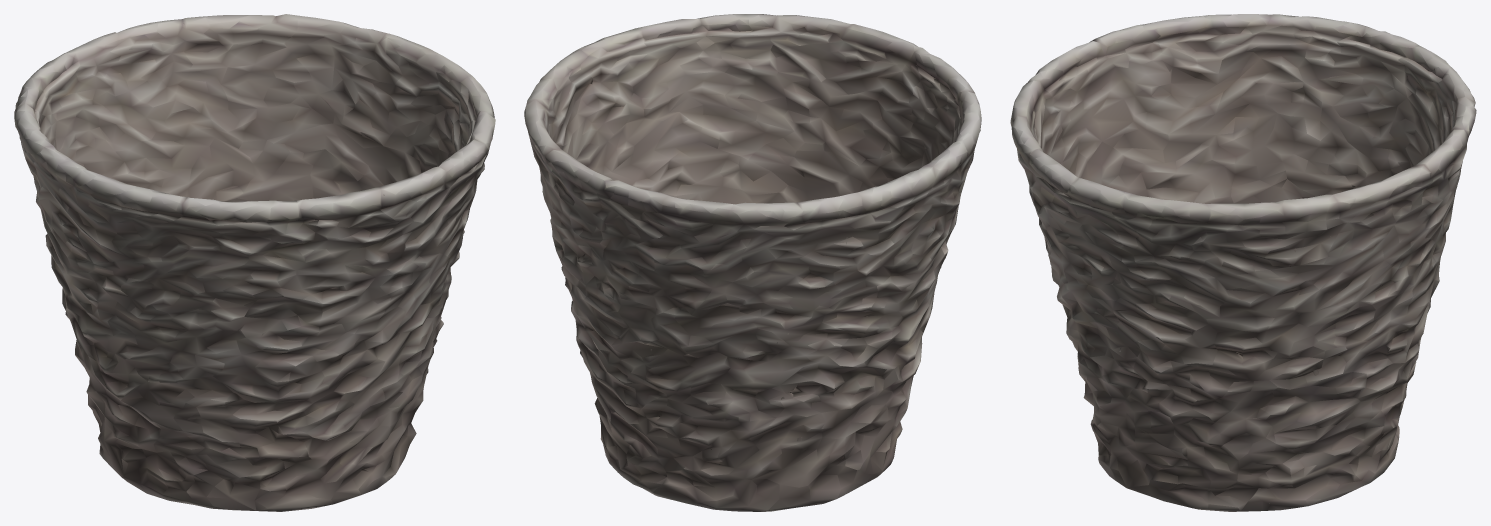
The model's file is 0009_mask_010_wicker_basket.glb.
3 views of the same model, side by side, from view 1: azimuth 30°, elevation 25°; view 2: azimuth 150°, elevation 25°; view 3: azimuth 270°, elevation 25° (orthographic).
Parts seen in each view (by area): view 1: mask_010_object; view 2: mask_010_object; view 3: mask_010_object.
Boxes of the visible parts, x1,y1,x2,y2 form: mask_010_object: (14, 14, 495, 511); mask_010_object: (524, 14, 981, 511); mask_010_object: (1010, 14, 1476, 511).
Bounding box in the file's own units: 0.4878 × 0.397 × 0.4878.
